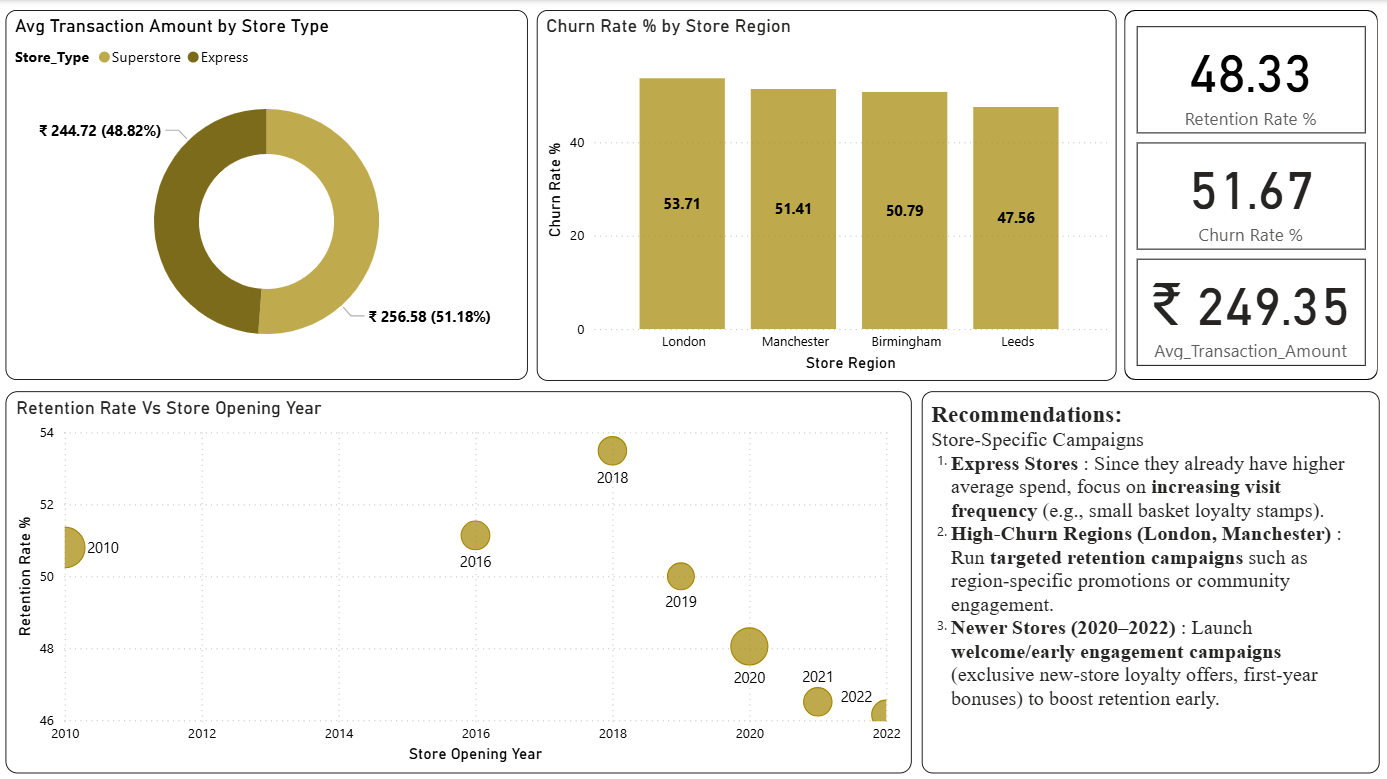

The dashboard page shown, as its layout file describes it:
{"tool":"powerbi","page":{"name":"Store Performance","canvas":[1280,720],"ordinal":3},"visuals":[{"type":"donutChart","title":"Avg Transaction Amount by Store Type","fields":{"Category":["Store_Transactions.Store_Locations.Store_Type"],"Y":["Store_Transactions.Avg_Transaction_Amount"]},"box":[6.9,9.2,480.2,340],"z":0},{"type":"columnChart","title":"Churn Rate % by Store Region","fields":{"Category":["Store_Transactions.Store_Locations.Region"],"Y":["Churn_Labelled_Customers.Churn Rate"]},"box":[495.1,9.2,533,341.2],"z":1000},{"type":"scatterChart","title":"Retention Rate Vs Store Opening Year","fields":{"Y":["Churn_Labelled_Customers.Retention Rate"],"X":["Store_Transactions.Store_Locations.Opening_Year"],"Size":["Customer_Demographics.Customers Total"]},"box":[6.9,359.5,832.8,351.5],"z":2000},{"type":"card","fields":{"Values":["Churn_Labelled_Customers.Retention Rate"]},"box":[1046.3,24.1,210.2,98.8],"z":3000},{"type":"card","fields":{"Values":["Churn_Labelled_Customers.Churn Rate"]},"box":[1046.3,131,210.2,98.8],"z":4000},{"type":"card","fields":{"Values":["Store_Transactions.Avg_Transaction_Amount"]},"box":[1046.3,237.8,210.2,98.8],"z":5000},{"type":"textbox","box":[848.9,359.5,420.4,351.5],"z":6000},{"type":"shape","box":[1035,9.2,233.2,340],"z":7000}]}

Visuals, with their boxes in screenshot pixels (x1, y1, x2, y2), scaled from the page's 1280x720 canvas onto the 1387x779 screenshot:
"Avg Transaction Amount by Store Type" donutChart: locate(7, 10, 528, 378)
"Churn Rate % by Store Region" columnChart: locate(536, 10, 1114, 379)
"Retention Rate Vs Store Opening Year" scatterChart: locate(7, 389, 910, 769)
card - Churn_Labelled_Customers.Retention Rate: locate(1134, 26, 1362, 133)
card - Churn_Labelled_Customers.Churn Rate: locate(1134, 142, 1362, 249)
card - Store_Transactions.Avg_Transaction_Amount: locate(1134, 257, 1362, 364)
textbox: locate(920, 389, 1375, 769)
shape: locate(1122, 10, 1374, 378)
